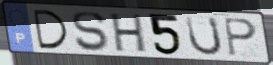5: (146, 13, 185, 57)
D: (31, 8, 71, 51)
H: (110, 12, 148, 54)
P: (221, 17, 259, 58)
S: (70, 10, 109, 53)
U: (184, 15, 225, 58)
